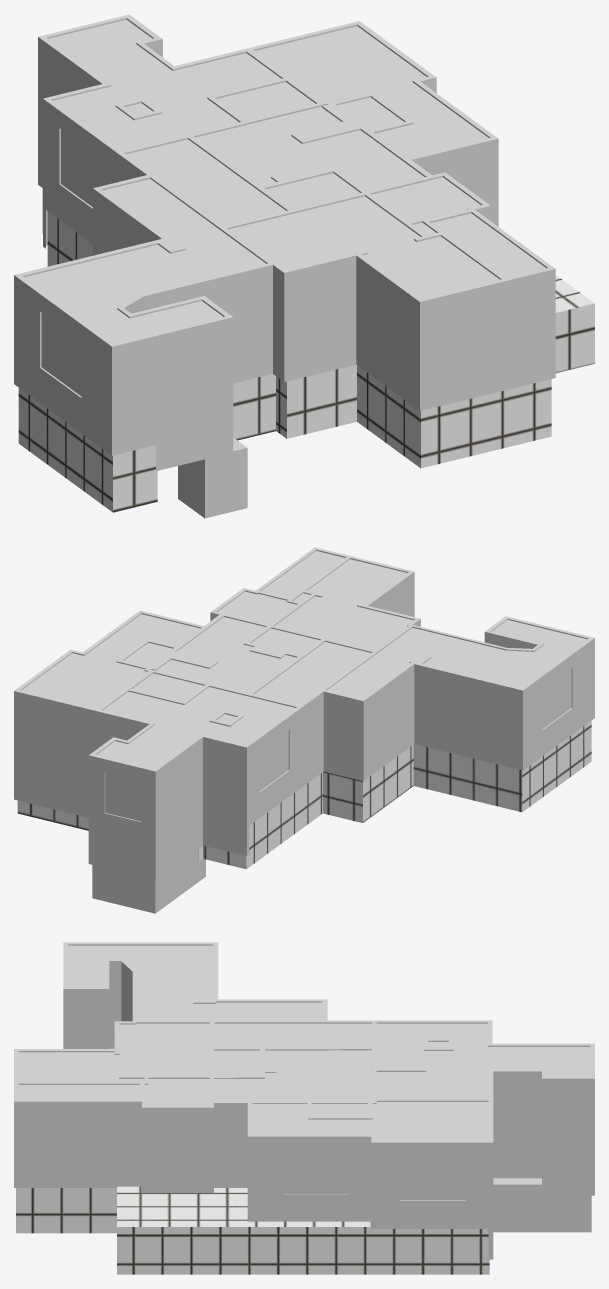
Rendered from office_map.glb.
3 renders of one model, top to bottom at view 1: azimuth 30°, elevation 25°; view 2: azimuth 150°, elevation 25°; view 3: azimuth 270°, elevation 25°, orthographic. The views are drawn at different scales.
Visible parts, largest first — view 1: wall, celling, floor3, glass_window, floor1; view 2: wall, celling, floor3, glass_window, floor2; view 3: wall, celling, floor3, glass_window, floor2.
Boxes of the visible parts, x1,y1,x2,y2 form: wall: (14, 14, 555, 471); celling: (24, 19, 545, 343); floor3: (18, 211, 594, 512); glass_window: (41, 129, 100, 396); floor1: (178, 437, 247, 518); wall: (14, 547, 594, 880); celling: (21, 551, 587, 768); floor3: (17, 721, 591, 869); glass_window: (105, 668, 571, 821); floor2: (92, 849, 205, 913); wall: (14, 942, 594, 1259); celling: (18, 945, 590, 1140); floor3: (16, 1047, 489, 1274); glass_window: (283, 1150, 465, 1200); floor2: (493, 1178, 591, 1232).
Size of the model in its own units: 90.33 by 32.51 by 111.
23 materials, 1 textured.
